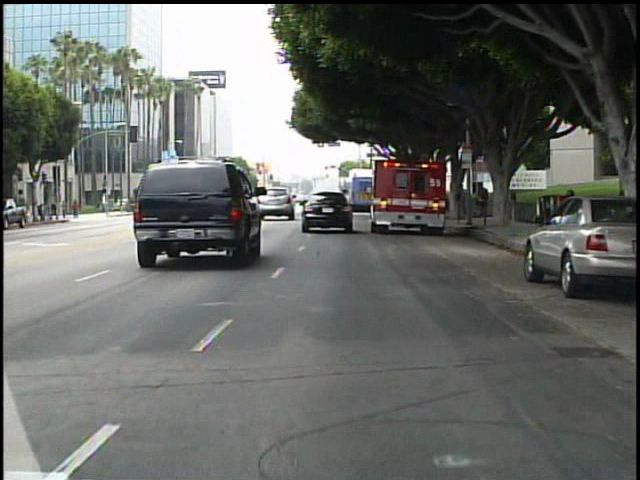person: (477, 185, 490, 219), (71, 196, 84, 222), (59, 197, 71, 221)
